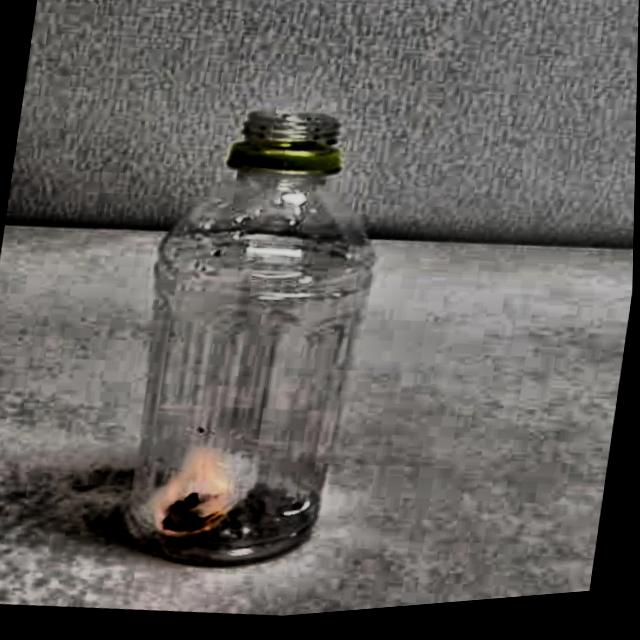Bottles: (76, 71, 451, 632)
